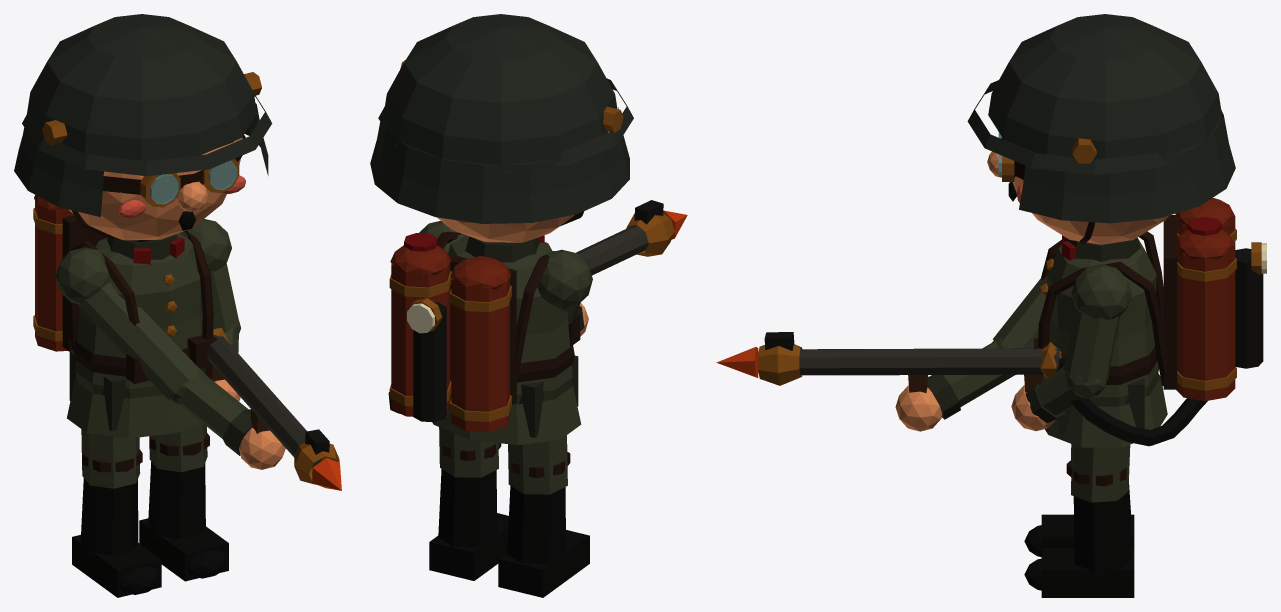
Rendered from Lanzallamas_CascoAcero.obj.
3 renders of one model, left to right at view 1: azimuth 30°, elevation 25°; view 2: azimuth 150°, elevation 25°; view 3: azimuth 270°, elevation 25°, orthographic. The views are drawn at different scales.
Parts seen in each view (by area): view 1: Cuerpo, Pierna_I, Pierna_D; view 2: Cuerpo, Pierna_I, Pierna_D; view 3: Cuerpo, Pierna_D, Pierna_I.
Part boxes in pixels (left/top/right/bottom): Cuerpo: left=14, top=14, right=341, bottom=490; Pierna_I: left=72, top=429, right=161, bottom=597; Pierna_D: left=139, top=422, right=228, bottom=581; Cuerpo: left=370, top=14, right=687, bottom=445; Pierna_I: left=498, top=435, right=589, bottom=597; Pierna_D: left=429, top=427, right=508, bottom=580; Cuerpo: left=716, top=14, right=1266, bottom=447; Pierna_D: left=1024, top=444, right=1134, bottom=597; Pierna_I: left=1024, top=444, right=1134, bottom=557.
Bounding box in the file's own units: 0.7592 × 1.75 × 1.6.
